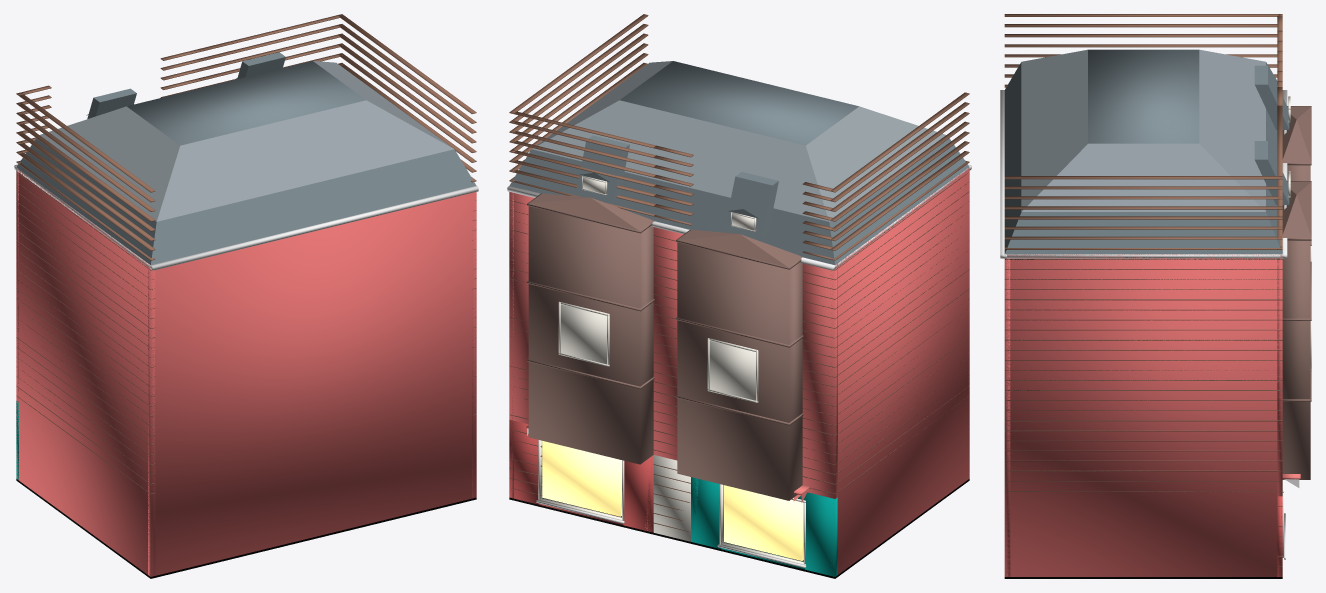
File: Building_2_5.glb
3 renders of one model, left to right at view 1: azimuth 30°, elevation 25°; view 2: azimuth 150°, elevation 25°; view 3: azimuth 270°, elevation 25°, orthographic. The views are drawn at different scales.
Parts seen in each view (by area): view 1: Walls.Back, Walls.Left, Mansard_Roof.Flat.Back, Mansard_Roof.Steep.Back, Mansard_Roof.Ridge, Mansard_Roof.Flat.Left, Mansard_Roof.Steep.Left, Cornice.Back, Mansard_Roof.Flat.Right, Walls.Floor0, Walls.Right, Dormers.D0.Box (+16 smaller); view 2: Walls.Left, Bay_Windows.R.Box, Bay_Windows.L.Box, Mansard_Roof.Flat.Front, Mansard_Roof.Ridge, Mansard_Roof.Steep.Front, Walls.Front.Upper.L, Mansard_Roof.Flat.Left, Walls.Front.Upper.C, Display_Windows.Left.Glass, Display_Windows.Right.Glass, Walls.Front.Upper.R (+28 smaller); view 3: Walls.Right, Mansard_Roof.Ridge, Mansard_Roof.Flat.Right, Mansard_Roof.Steep.Right, Mansard_Roof.Flat.Back, Mansard_Roof.Flat.Front, Bay_Windows.R.Box, Mansard_Roof.Steep.Back, Walls.Back, Bay_Windows.L.Peak, Bay_Windows.R.Peak, Walls.Front.Upper.R (+32 smaller).
Part boxes in pixels (<box>): Walls.Back: <box>148,192,476,576</box>; Walls.Left: <box>16,169,155,576</box>; Mansard_Roof.Flat.Back: <box>156,100,453,221</box>; Mansard_Roof.Steep.Back: <box>151,149,476,264</box>; Mansard_Roof.Ridge: <box>127,61,365,145</box>; Mansard_Roof.Flat.Left: <box>40,106,179,221</box>; Mansard_Roof.Steep.Left: <box>16,138,156,264</box>; Cornice.Back: <box>150,186,478,270</box>; Mansard_Roof.Flat.Right: <box>313,61,452,147</box>; Walls.Floor0: <box>16,479,476,578</box>; Walls.Right: <box>472,194,476,498</box>; Dormers.D0.Box: <box>87,88,136,118</box>; Walls.Left: <box>830,167,969,576</box>; Bay_Windows.R.Box: <box>528,206,653,464</box>; Bay_Windows.L.Box: <box>677,242,802,500</box>; Mansard_Roof.Flat.Front: <box>532,100,829,221</box>; Mansard_Roof.Ridge: <box>620,61,858,145</box>; Mansard_Roof.Steep.Front: <box>509,149,834,264</box>; Walls.Front.Upper.L: <box>802,263,837,498</box>; Mansard_Roof.Flat.Left: <box>806,106,945,221</box>; Walls.Front.Upper.C: <box>653,227,683,460</box>; Display_Windows.Left.Glass: <box>724,485,803,560</box>; Display_Windows.Right.Glass: <box>542,441,621,516</box>; Walls.Front.Upper.R: <box>509,192,534,424</box>; Walls.Right: <box>1004,254,1282,576</box>; Mansard_Roof.Ridge: <box>1088,49,1199,143</box>; Mansard_Roof.Flat.Right: <box>1022,143,1265,211</box>; Mansard_Roof.Steep.Right: <box>1005,212,1282,254</box>; Mansard_Roof.Flat.Back: <box>1021,49,1087,211</box>; Mansard_Roof.Flat.Front: <box>1199,49,1265,211</box>; Bay_Windows.R.Box: <box>1282,240,1310,479</box>; Mansard_Roof.Steep.Back: <box>1004,62,1021,253</box>; Walls.Back: <box>1004,254,1010,576</box>; Bay_Windows.L.Peak: <box>1282,106,1311,162</box>; Bay_Windows.R.Peak: <box>1282,181,1311,237</box>; Walls.Front.Upper.R: <box>1277,254,1282,496</box>.
Bounding box in the file's own units: 3.5 × 3.97 × 2.8.
